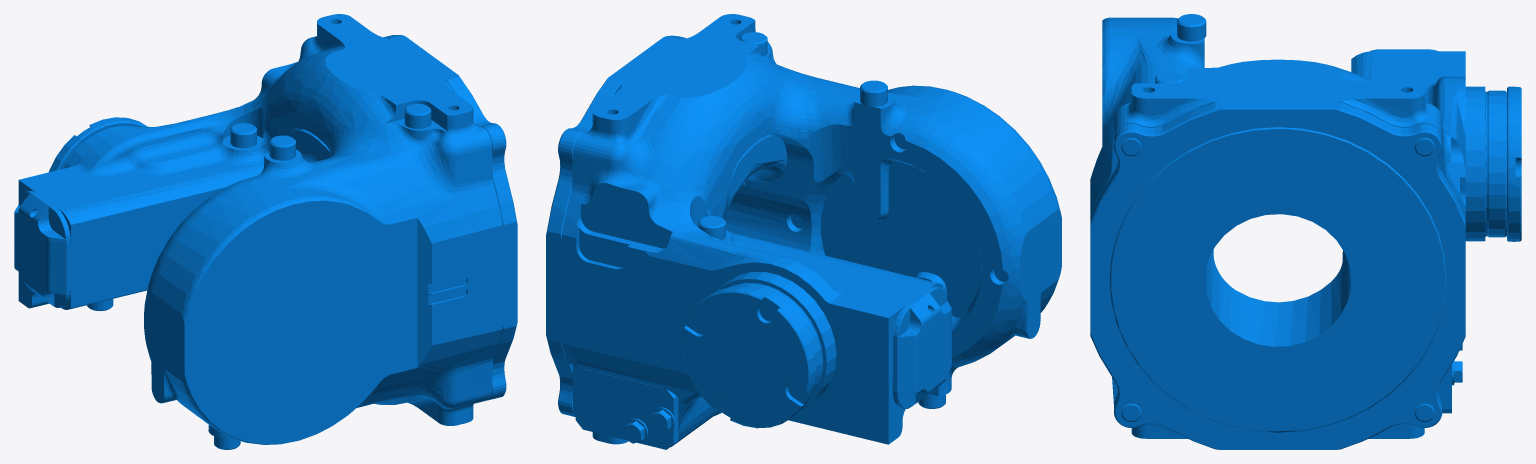
Rendered from b_axis.dae.
3 views of the same model, side by side, from view 1: azimuth 30°, elevation 25°; view 2: azimuth 150°, elevation 25°; view 3: azimuth 270°, elevation 25° (orthographic). The views are drawn at different scales.
Visible parts, largest first — view 1: B_Axis; view 2: B_Axis; view 3: B_Axis.
Part boxes in pixels (bbox=[...]): B_Axis: bbox=[14, 14, 517, 449]; B_Axis: bbox=[546, 14, 1061, 449]; B_Axis: bbox=[1090, 14, 1521, 449].
Bounding box in the file's own units: 0.1488 × 0.147 × 0.128.
